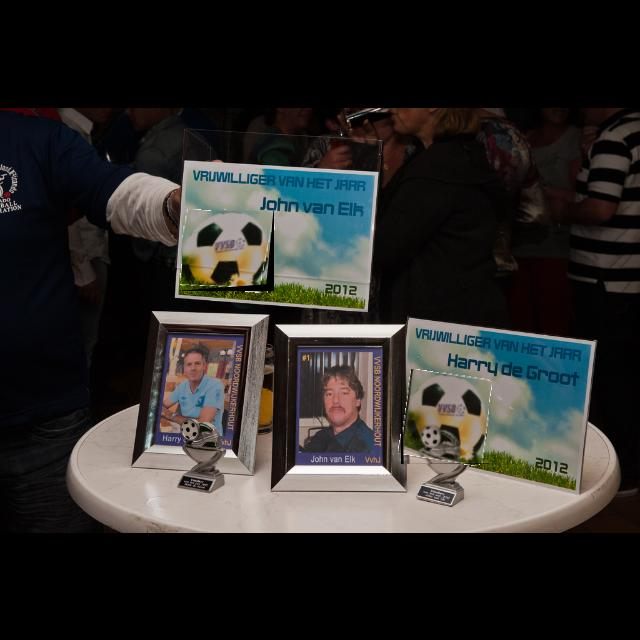Football: (401, 372, 489, 464), (182, 211, 274, 291)
